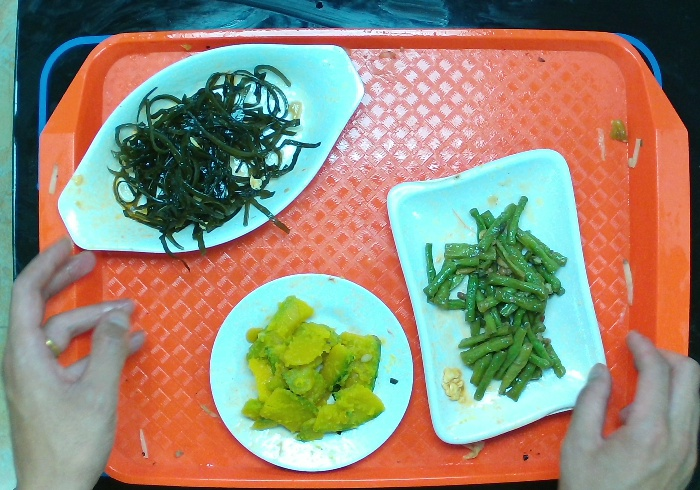RJxy-Si_Fang_Ao_Bian_Wan: (384, 146, 609, 445)
RJxy-Xiao_Yuan_Die: (206, 270, 416, 473)
RJxy-Yu_Pan: (54, 40, 366, 256)
